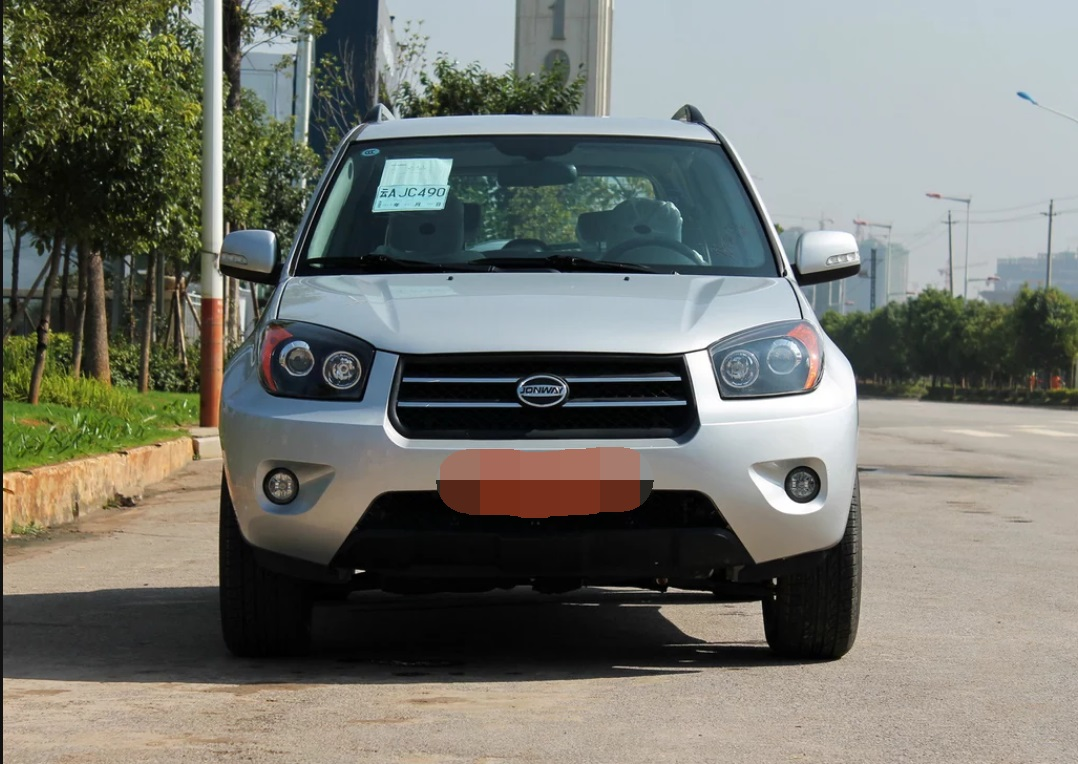SUV: (220, 102, 874, 664)
